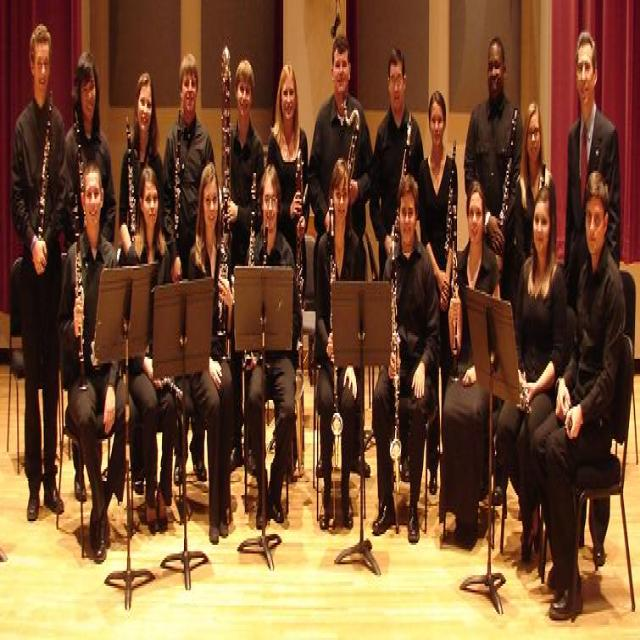clarinet: (323, 200, 349, 434), (386, 209, 406, 476), (68, 186, 90, 406), (34, 84, 57, 250), (496, 94, 520, 248), (446, 222, 462, 388), (122, 110, 140, 252), (171, 105, 185, 240), (72, 100, 88, 214), (442, 133, 455, 273), (247, 163, 258, 268), (400, 107, 414, 188)
